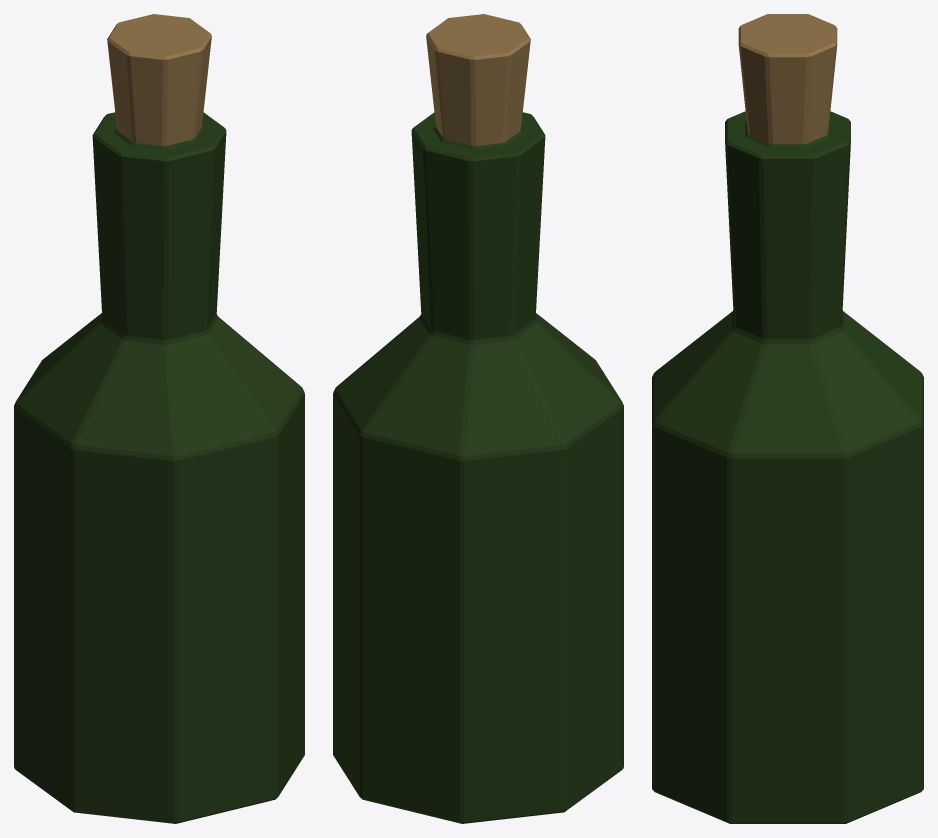
The model's file is Bottle.fbx.
3 views of the same model, side by side, from view 1: azimuth 30°, elevation 25°; view 2: azimuth 150°, elevation 25°; view 3: azimuth 270°, elevation 25° (orthographic).
Visible parts, largest first — view 1: Bottle.002; view 2: Bottle.002; view 3: Bottle.002.
Part boxes in pixels (<box>): Bottle.002: <box>14,14,304,823</box>; Bottle.002: <box>333,14,623,823</box>; Bottle.002: <box>652,14,923,823</box>.
Bounding box in the file's own units: 41.56 × 124 × 41.56.
